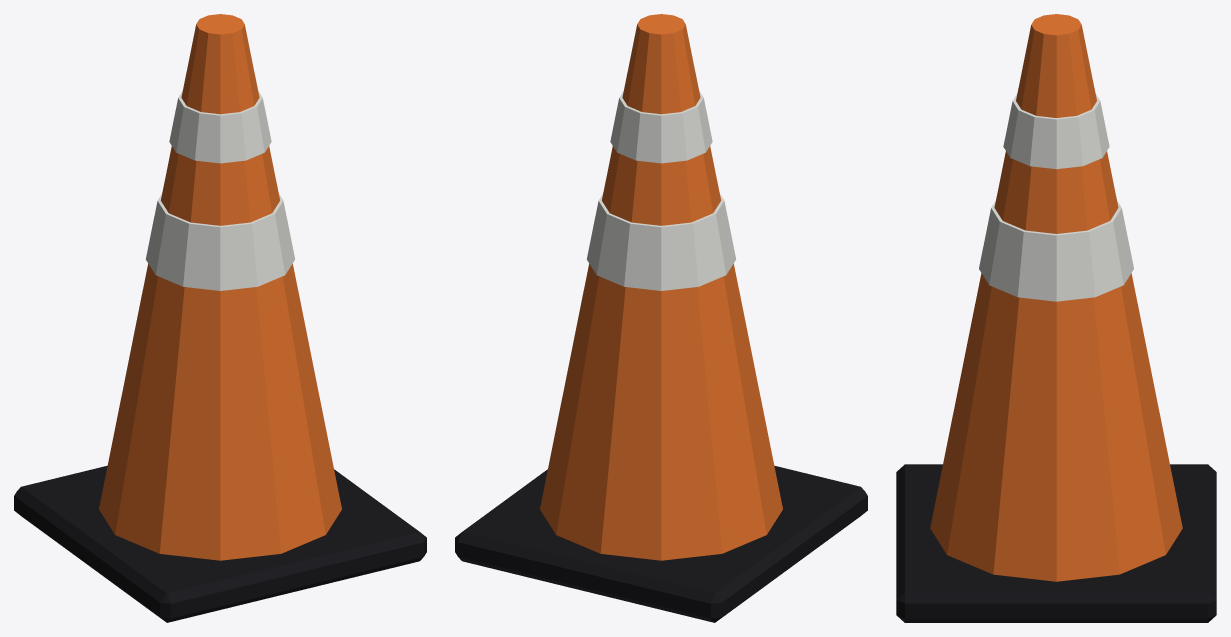
File: Traffic_Cone.fbx
3 renders of one model, left to right at view 1: azimuth 30°, elevation 25°; view 2: azimuth 150°, elevation 25°; view 3: azimuth 270°, elevation 25°, orthographic. The views are drawn at different scales.
Visible parts, largest first — view 1: Traffic_Cone; view 2: Traffic_Cone; view 3: Traffic_Cone.
Part boxes in pixels (x1,y1,x2,y2): Traffic_Cone: (14, 14, 426, 622); Traffic_Cone: (455, 14, 867, 622); Traffic_Cone: (896, 14, 1216, 622).
Size of the model in its own units: 0.38 by 0.7 by 0.38.
1 material, 1 textured.
